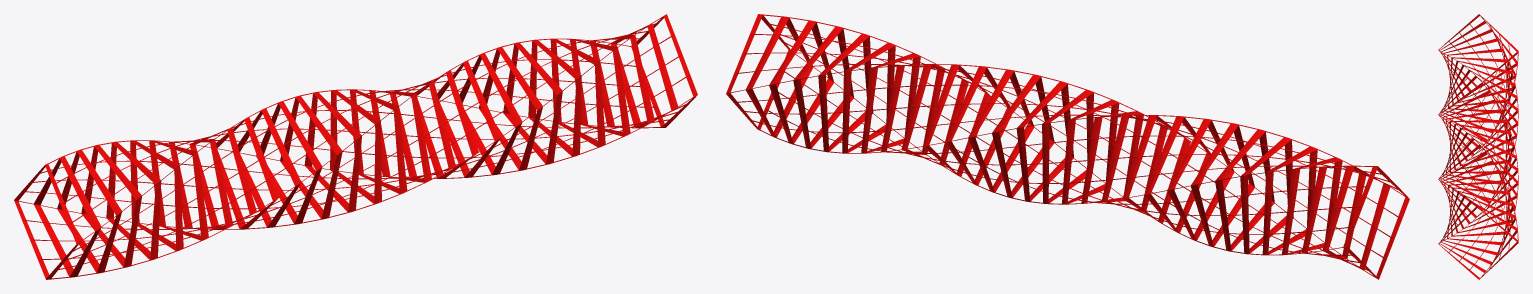
File: bendyhallway.fbx
The picture shows the model from 3 angles, left to right: view 1: azimuth 30°, elevation 25°; view 2: azimuth 150°, elevation 25°; view 3: azimuth 270°, elevation 25°; orthographic projection. The views are drawn at different scales.
Visible parts, largest first — view 1: Cube; view 2: Cube; view 3: Cube.
Boxes of the visible parts, x1,y1,x2,y2 form: Cube: [14, 14, 697, 279]; Cube: [726, 14, 1409, 279]; Cube: [1438, 14, 1518, 279].
Size of the model in its own units: 18516 by 3264 by 3264.
